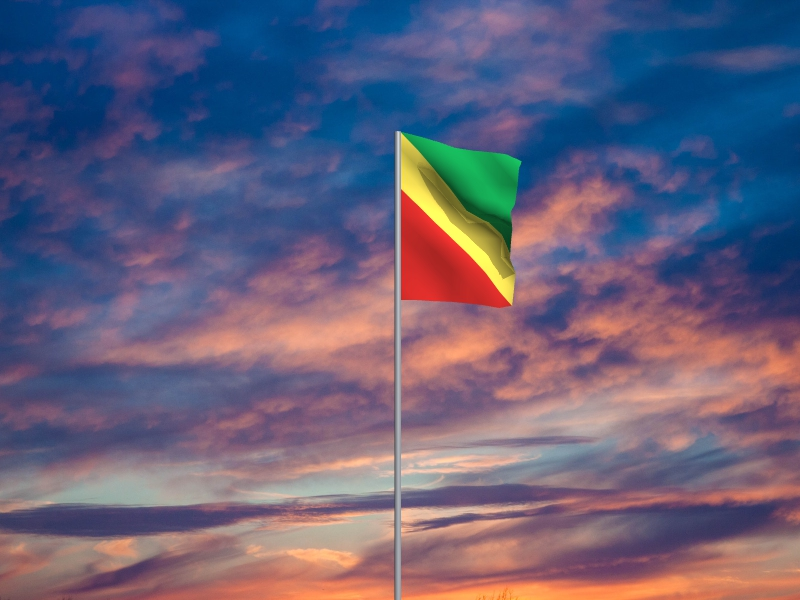cg: (401, 132, 523, 309)
